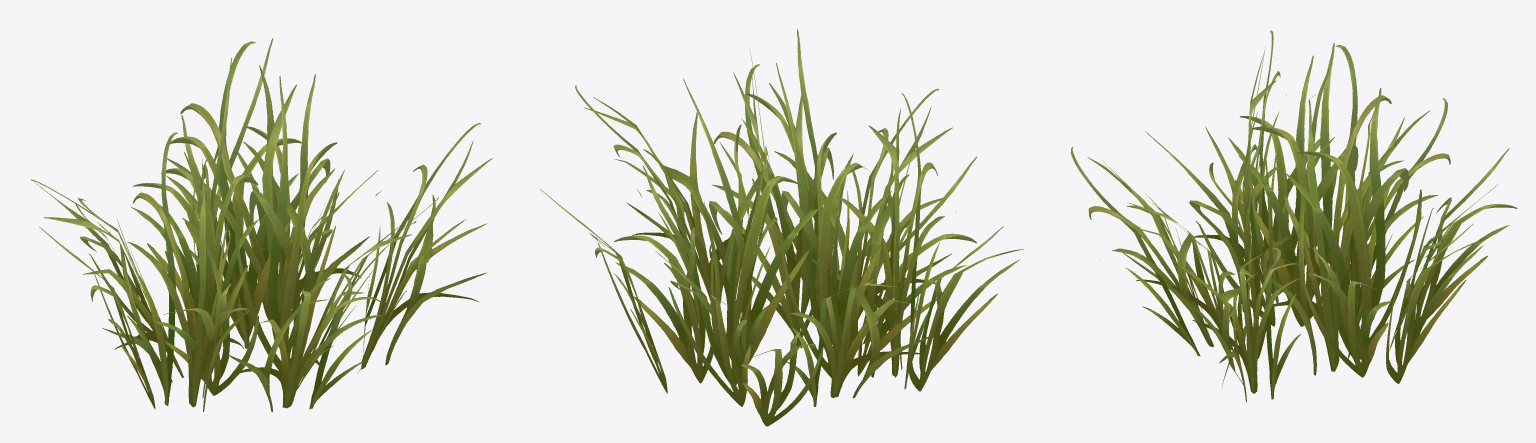
3 views of the same model, side by side, from view 1: azimuth 30°, elevation 25°; view 2: azimuth 150°, elevation 25°; view 3: azimuth 270°, elevation 25° (orthographic). The views are drawn at different scales.
Bounding box in the file's own units: 4.21 × 3.14 × 3.78.
Materials: 1 (1 with a texture image).
